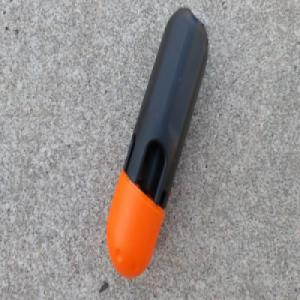PlasticPart: (106, 5, 209, 279)
